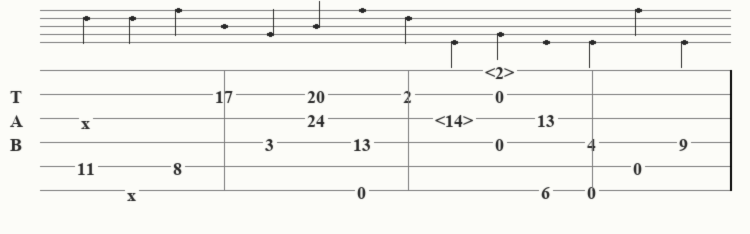0: (357, 182, 370, 198), (495, 134, 508, 150), (495, 86, 508, 102), (587, 182, 600, 198), (633, 158, 646, 174)
11: (77, 158, 99, 174)
13: (353, 134, 375, 150), (537, 110, 559, 126)
17: (215, 86, 237, 102)
2: (403, 86, 416, 102)
20: (307, 86, 329, 102)
24: (307, 110, 329, 126)
3: (265, 134, 278, 150)
4: (587, 134, 600, 150)
6: (541, 182, 554, 198)
8: (173, 158, 186, 174)
9: (679, 134, 692, 150)
harmonic: (435, 110, 477, 126), (485, 62, 518, 78)
x: (81, 112, 94, 124), (127, 184, 140, 196)
